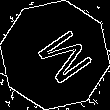M_SW: (21, 22, 89, 88)
